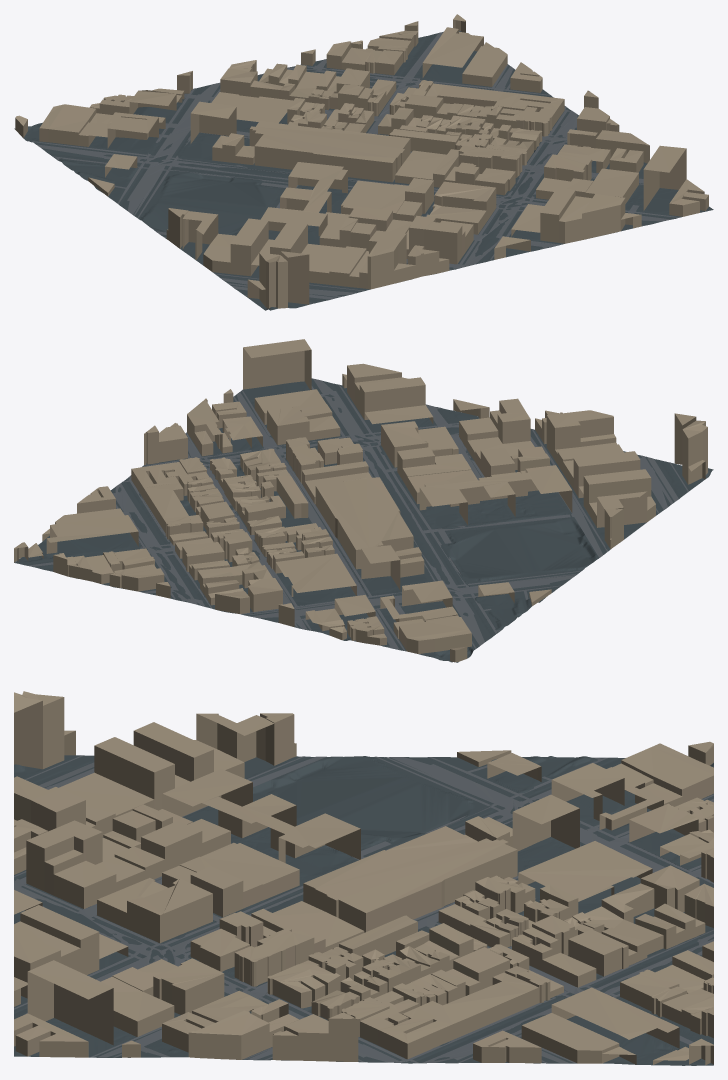
The model's file is epsg26910-1437-10889.lod0.glb.
The picture shows the model from 3 angles, top to bottom: view 1: azimuth 30°, elevation 25°; view 2: azimuth 150°, elevation 25°; view 3: azimuth 270°, elevation 25°; orthographic projection. The views are drawn at different scales.
Visible parts, largest first — view 1: epsg26910-1437-10889-lod0; view 2: epsg26910-1437-10889-lod0; view 3: epsg26910-1437-10889-lod0.
Boxes of the visible parts, x1,y1,x2,y2 form: epsg26910-1437-10889-lod0: (14,14,713,310); epsg26910-1437-10889-lod0: (14,339,713,662); epsg26910-1437-10889-lod0: (14,691,713,1065).
Bounding box in the file's own units: 384 × 52.32 × 384.
